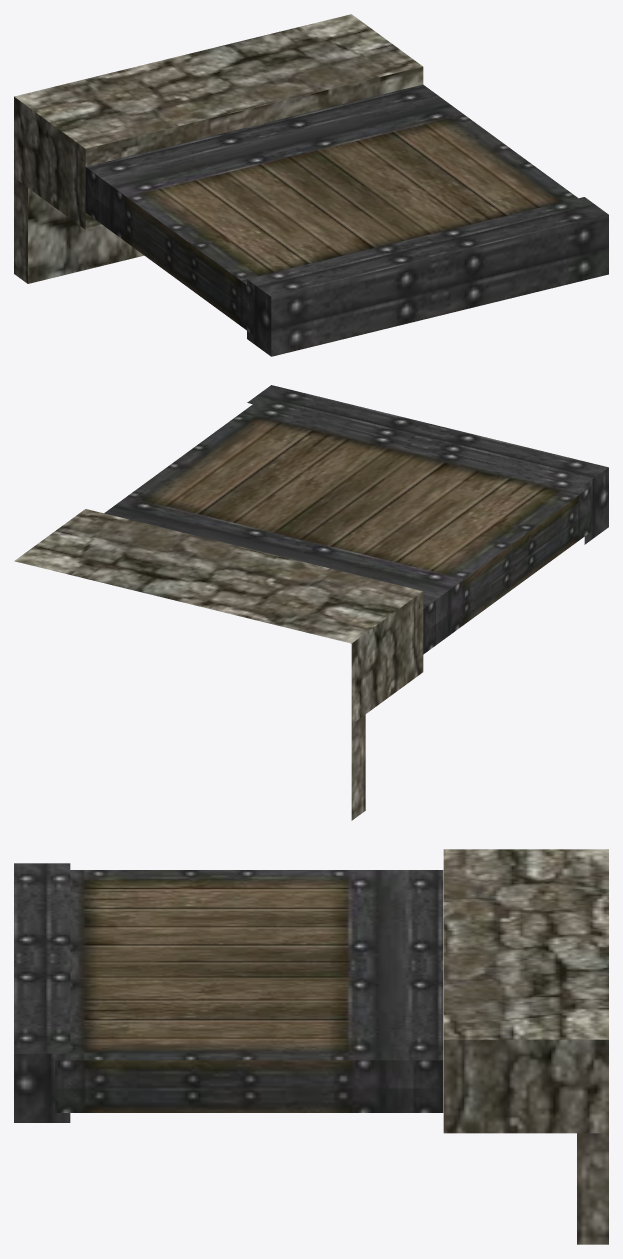
3 views of the same model, one above another, from view 1: azimuth 30°, elevation 25°; view 2: azimuth 150°, elevation 25°; view 3: azimuth 270°, elevation 25° (orthographic). The views are drawn at different scales.
Parts seen in each view (by area): view 1: model_Object78; view 2: model_Object78; view 3: model_Object78.
Part boxes in pixels (x1,y1,x2,y2): model_Object78: [14, 14, 608, 356]; model_Object78: [14, 385, 608, 820]; model_Object78: [14, 849, 608, 1244].
Size of the model in its own units: 2 by 1 by 2.64.
Materials: 2 (2 with a texture image).
